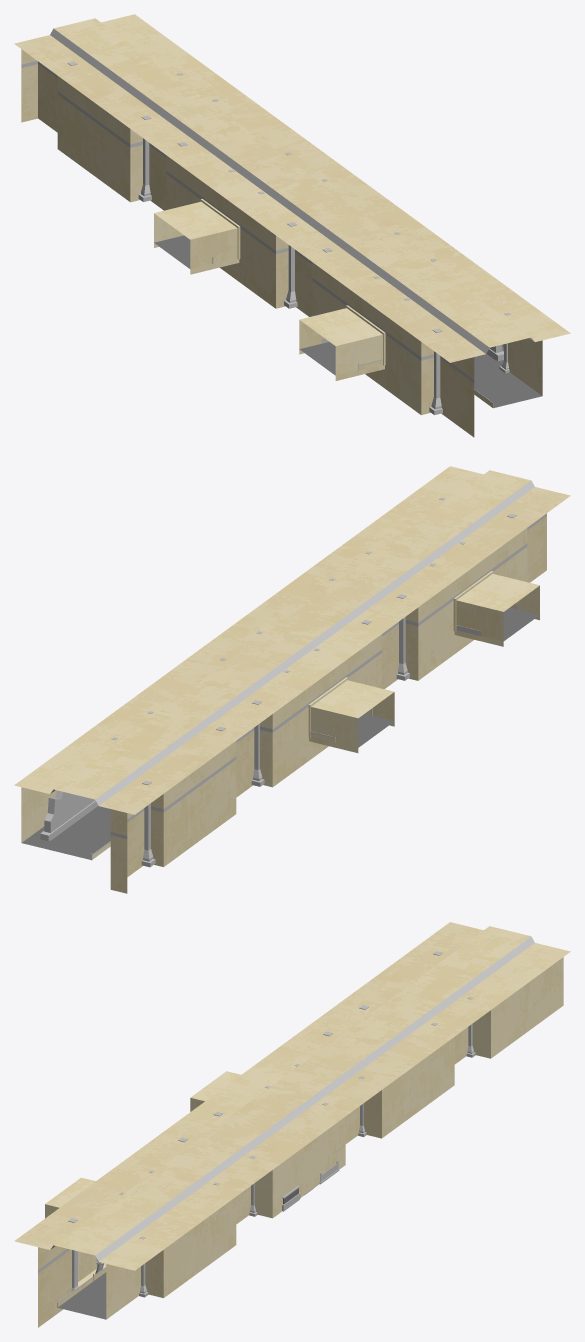
Rendered from Chunk03_Boss.fbx.
3 renders of one model, top to bottom at view 1: azimuth 30°, elevation 25°; view 2: azimuth 150°, elevation 25°; view 3: azimuth 330°, elevation 25°, orthographic.
Visible parts, largest first — view 1: Chunk03_Boss_mesh; view 2: Chunk03_Boss_mesh; view 3: Chunk03_Boss_mesh.
Part boxes in pixels (left/top/right/bottom): Chunk03_Boss_mesh: left=14, top=14, right=570, bottom=437; Chunk03_Boss_mesh: left=14, top=466, right=570, bottom=893; Chunk03_Boss_mesh: left=14, top=922, right=570, bottom=1327.
Size of the model in its own units: 12919 by 6837 by 60030.
